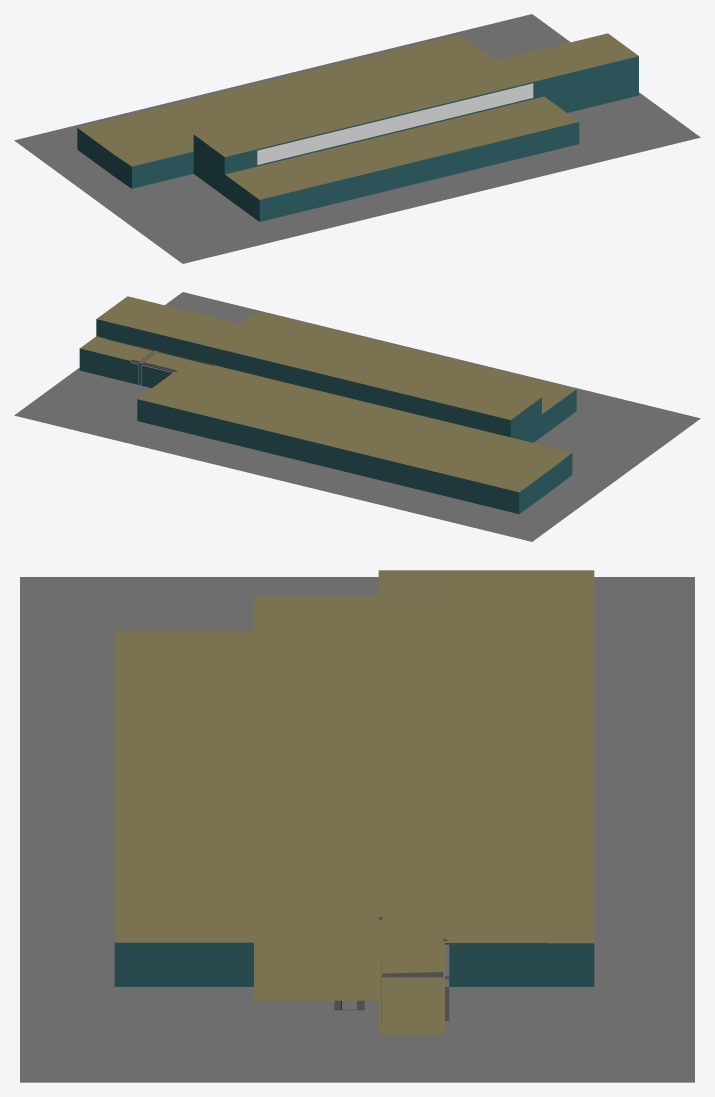
File: office_final.fbx
The picture shows the model from 3 angles, top to bottom: view 1: azimuth 30°, elevation 25°; view 2: azimuth 150°, elevation 25°; view 3: azimuth 270°, elevation 25°; orthographic projection. The views are drawn at different scales.
Visible parts, largest first — view 1: polySurface42, pPlane4; view 2: polySurface42, pPlane4, pCube131; view 3: polySurface42, pPlane4, pCube131.
Part boxes in pixels (left/top/right/bottom): polySurface42: left=77, top=33, right=638, bottom=221; pPlane4: left=14, top=14, right=700, bottom=263; polySurface42: left=79, top=296, right=576, bottom=514; pPlane4: left=14, top=292, right=700, bottom=541; pCube131: left=106, top=339, right=214, bottom=386; polySurface42: left=114, top=570, right=594, bottom=1034; pPlane4: left=20, top=577, right=694, bottom=1082; pCube131: left=377, top=917, right=449, bottom=1026.
Size of the model in its own units: 9450 by 736 by 5332.
